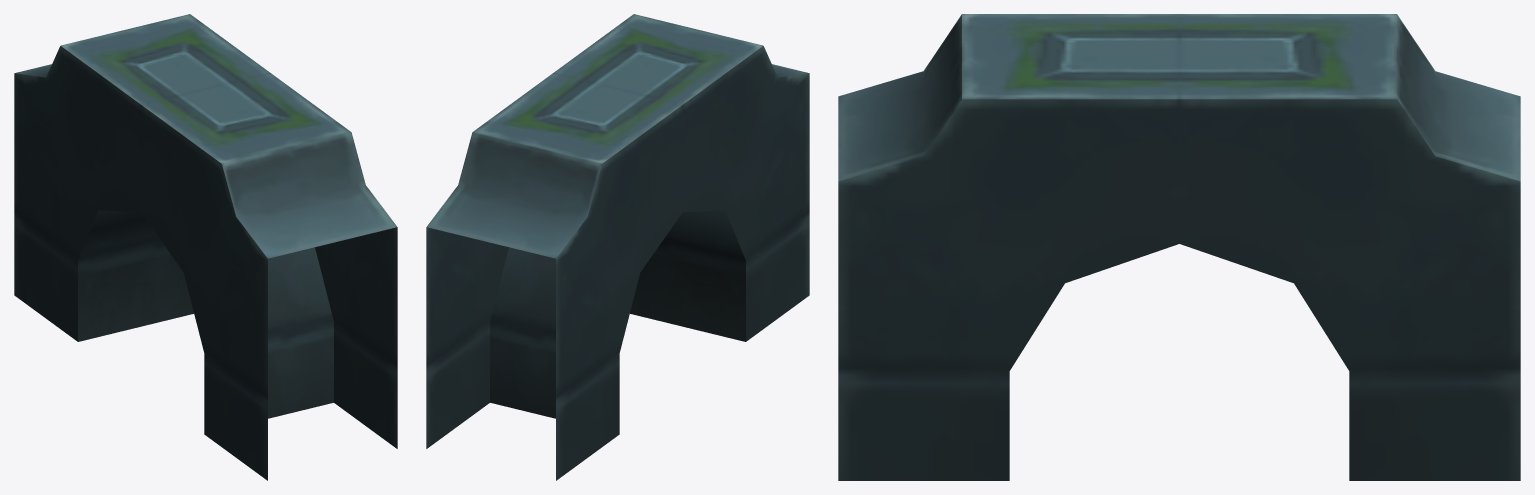
Rendered from zhucheng_langan07.FBX.
3 renders of one model, left to right at view 1: azimuth 30°, elevation 25°; view 2: azimuth 150°, elevation 25°; view 3: azimuth 270°, elevation 25°, orthographic. The views are drawn at different scales.
Visible parts, largest first — view 1: zhucheng_langan07; view 2: zhucheng_langan07; view 3: zhucheng_langan07.
Boxes of the visible parts, x1,y1,x2,y2 form: zhucheng_langan07: (14, 14, 397, 480); zhucheng_langan07: (426, 14, 809, 480); zhucheng_langan07: (838, 14, 1520, 480).
Bounding box in the file's own units: 84.35 × 176 × 285.
